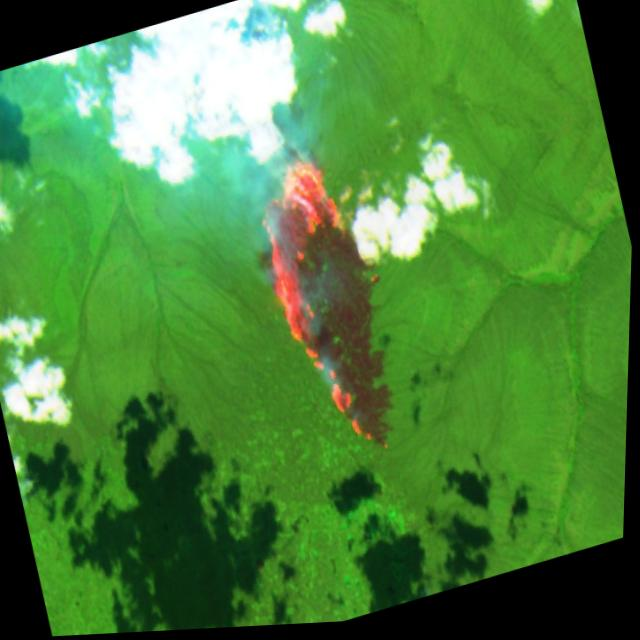fire: (235, 133, 430, 490)
